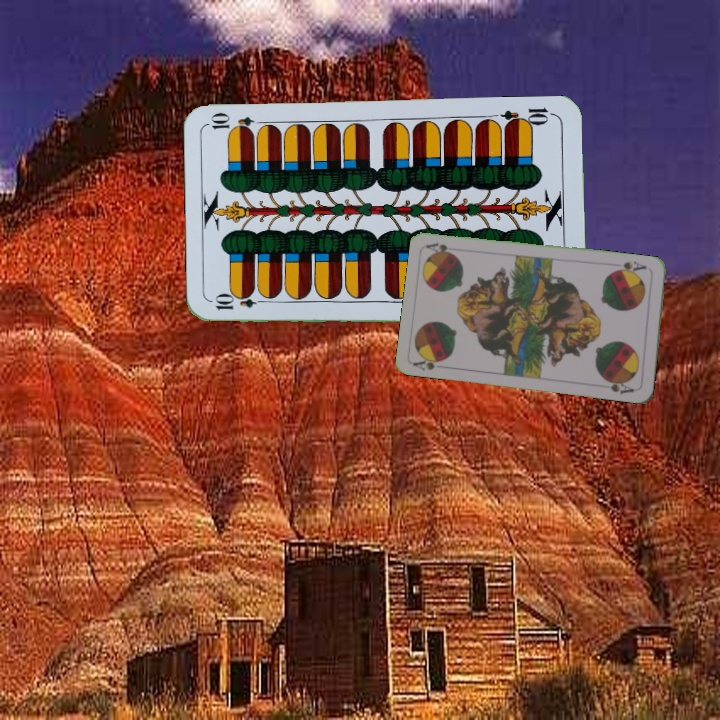E10: (498, 104, 557, 130), (211, 294, 270, 312)
SA: (410, 352, 449, 373), (611, 257, 649, 277)
